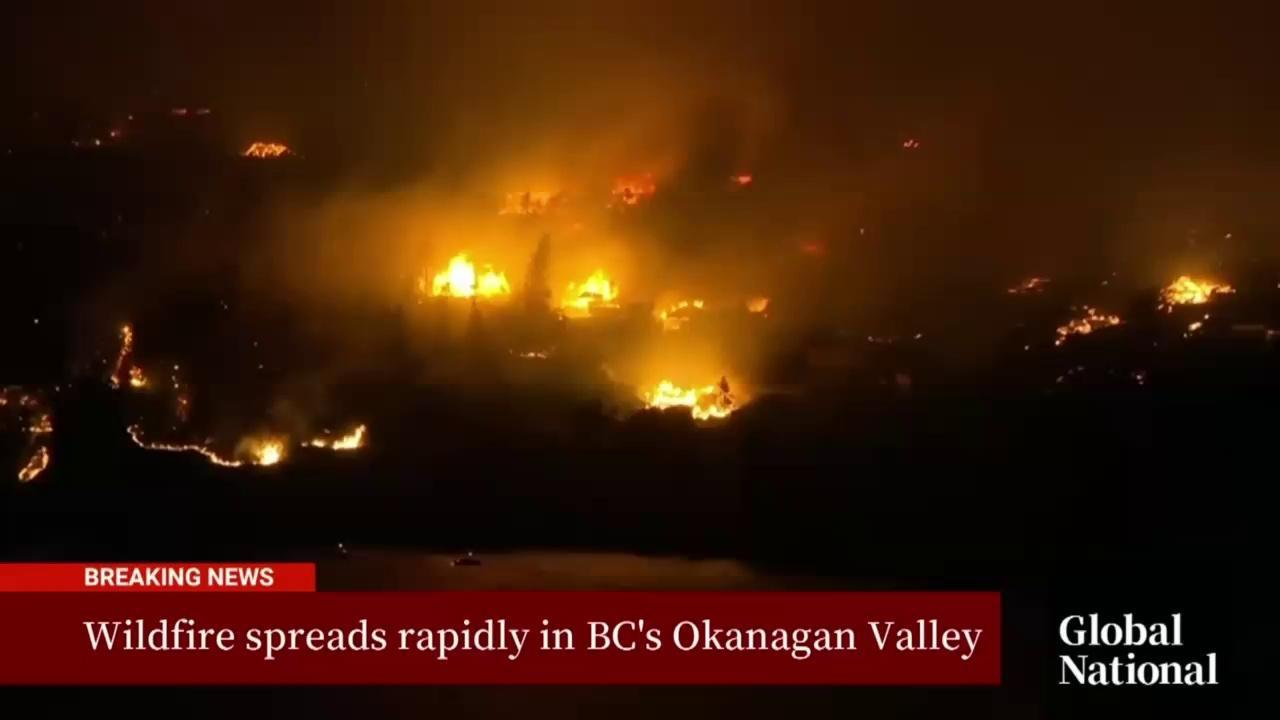fire: (124, 421, 289, 470), (642, 372, 739, 423), (425, 250, 512, 304), (1151, 273, 1239, 318), (1054, 304, 1128, 351), (554, 270, 621, 320), (108, 319, 150, 390), (610, 166, 659, 210), (302, 421, 369, 451), (652, 296, 707, 331), (12, 446, 50, 481), (1004, 271, 1053, 298), (241, 140, 293, 161), (23, 411, 56, 434), (741, 294, 771, 318), (729, 171, 755, 186), (169, 106, 190, 117), (903, 138, 922, 149), (1185, 320, 1205, 330), (110, 129, 124, 141), (94, 136, 101, 146), (127, 114, 135, 121)
smoke: (3, 0, 1280, 469)
